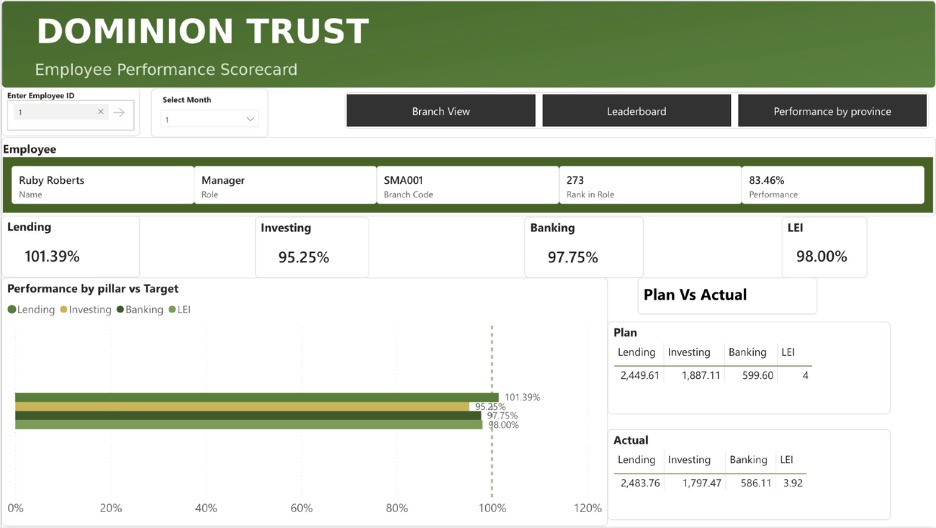

This screenshot's page, from the dashboard's own definition file:
{"tool":"tableau","page":{"name":"FInal My Scorecard ","canvas":[1000,1000],"units":"permille","ordinal":1},"visuals":[{"type":"image","param":"/Users/saran/Downloads/dominion_trust_employee_performance_scorecard_banner.png","box":[3.1,5.7,993.7,988.7]},{"type":"parameter","param":"[Parameters].[Parameter 3623807528333328]","box":[205.2,308.2,116,38.6]},{"type":"parameter","param":"[Parameters].[Parameter 3623807549329428]","box":[400.4,310.7,98.7,36.1]},{"type":"dashboard-object","box":[540.1,310.7,88.4,37.8]},{"type":"dashboard-object","box":[655.6,311.6,91,38.6]},{"type":"parameter","param":"[Parameters].[Parameter 3623807499624452]","box":[32.8,317.6,130.6,32.6]},{"type":"worksheet","title":"mployee - Pillar Table","mark":"Automatic","rows":["pillar_name","branch_code","rank_within_role","rank_within_branch","pct_to_target","branch_id","employee_id","Calculation_3623807514517515","role (fact_targets)","Calculation_3623807517364236","Calculation_3623807520337935"],"box":[33.2,368.6,941.8,297.5]},{"type":"worksheet","title":"Pillars breakdown","mark":"Bar","rows":["pillar_name"],"cols":["pct_to_target"],"box":[30.6,645.3,933.2,255]}]}

Visuals, with their boxes on the dashboard's canvas, which has no fixed pixel size, in thousandths of its width and height (x1, y1, x2, y2). These are canvas units, not pixel positions in the 936x528 screenshot, which may show the page scaled, cropped or inside an application window:
image: <bbox>3, 6, 997, 994</bbox>
parameter: <bbox>205, 308, 321, 347</bbox>
parameter: <bbox>400, 311, 499, 347</bbox>
dashboard-object: <bbox>540, 311, 628, 348</bbox>
dashboard-object: <bbox>656, 312, 747, 350</bbox>
parameter: <bbox>33, 318, 163, 350</bbox>
"mployee - Pillar Table" worksheet: <bbox>33, 369, 975, 666</bbox>
"Pillars breakdown" worksheet (Bar marks): <bbox>31, 645, 964, 900</bbox>
